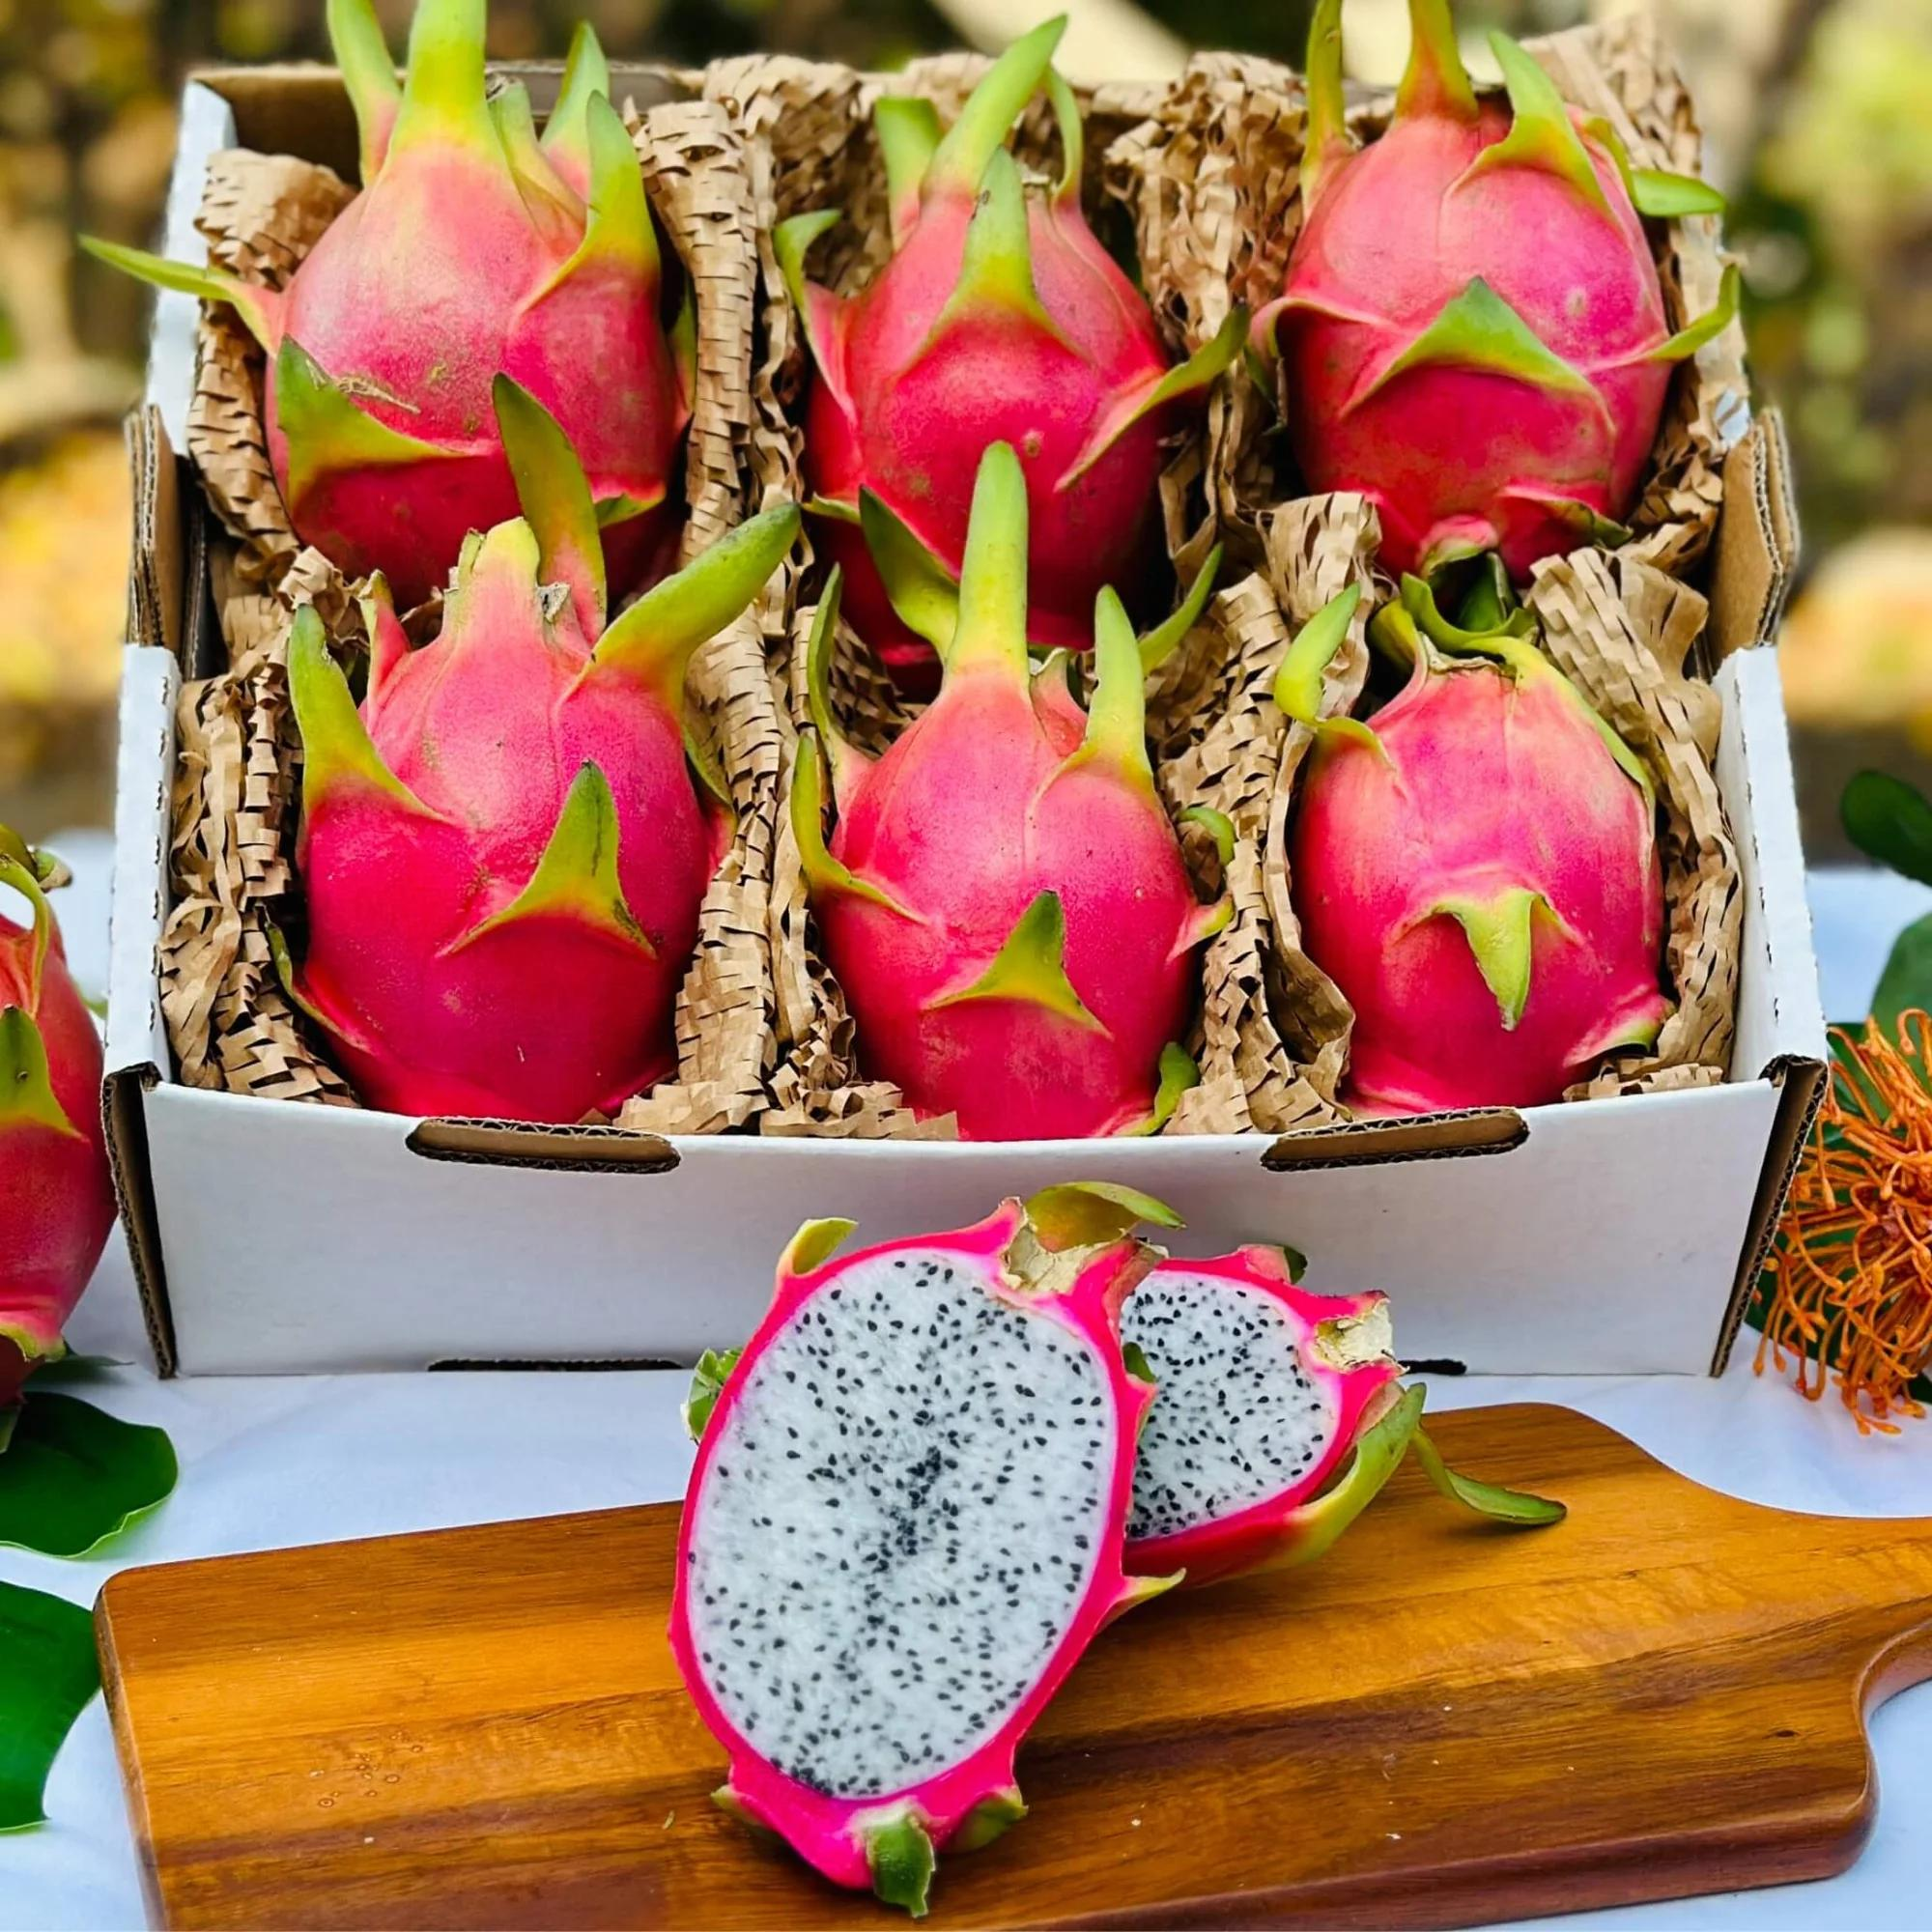dragon fruit: (653, 1189, 1164, 1920), (223, 490, 724, 1138), (773, 534, 1221, 1141), (225, 7, 695, 543), (1253, 16, 1684, 566), (766, 50, 1200, 584), (1276, 577, 1684, 1118)
